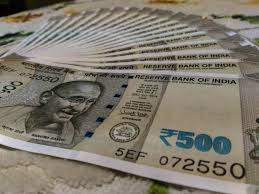fiveHundred: (4, 70, 246, 160)
